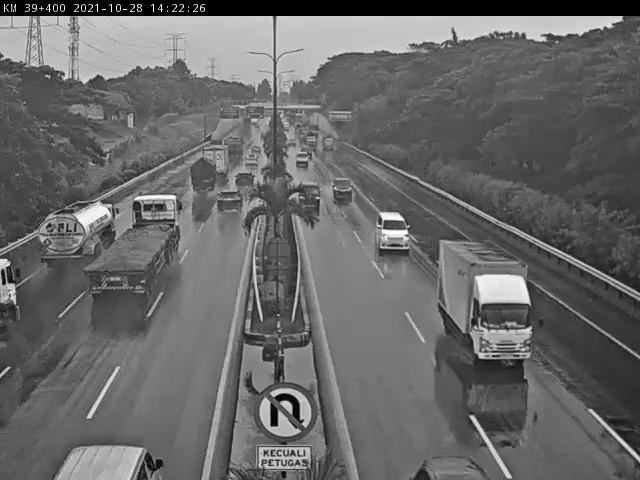big truck: (107, 200, 173, 299), (203, 142, 229, 176)
car: (407, 451, 488, 480), (369, 206, 415, 254), (329, 173, 361, 207), (297, 173, 324, 212), (214, 187, 244, 215), (240, 154, 263, 176), (234, 172, 259, 189), (290, 148, 312, 167), (247, 148, 260, 163)
small truck: (435, 235, 542, 375), (18, 206, 102, 264), (184, 155, 220, 199)
